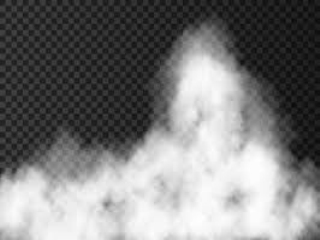smoke: (129, 29, 295, 235)
